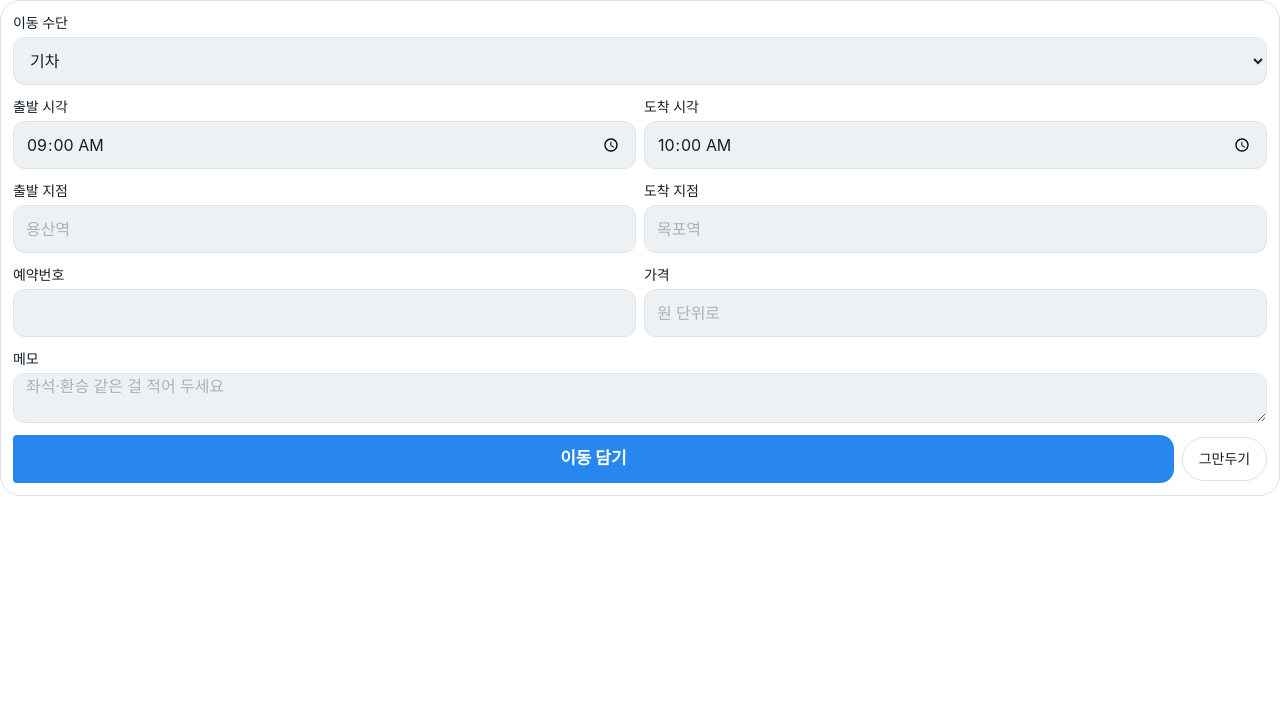
LegForm — 이동 입력 (FR-008) › 가격은 숫자 키패드로 받고 천 단위 콤마로 보여 준다 (SPEC §UI 규칙)
Type "59800" into the field labelled "가격" at x=956, y=313, box [644,289,1267,337]
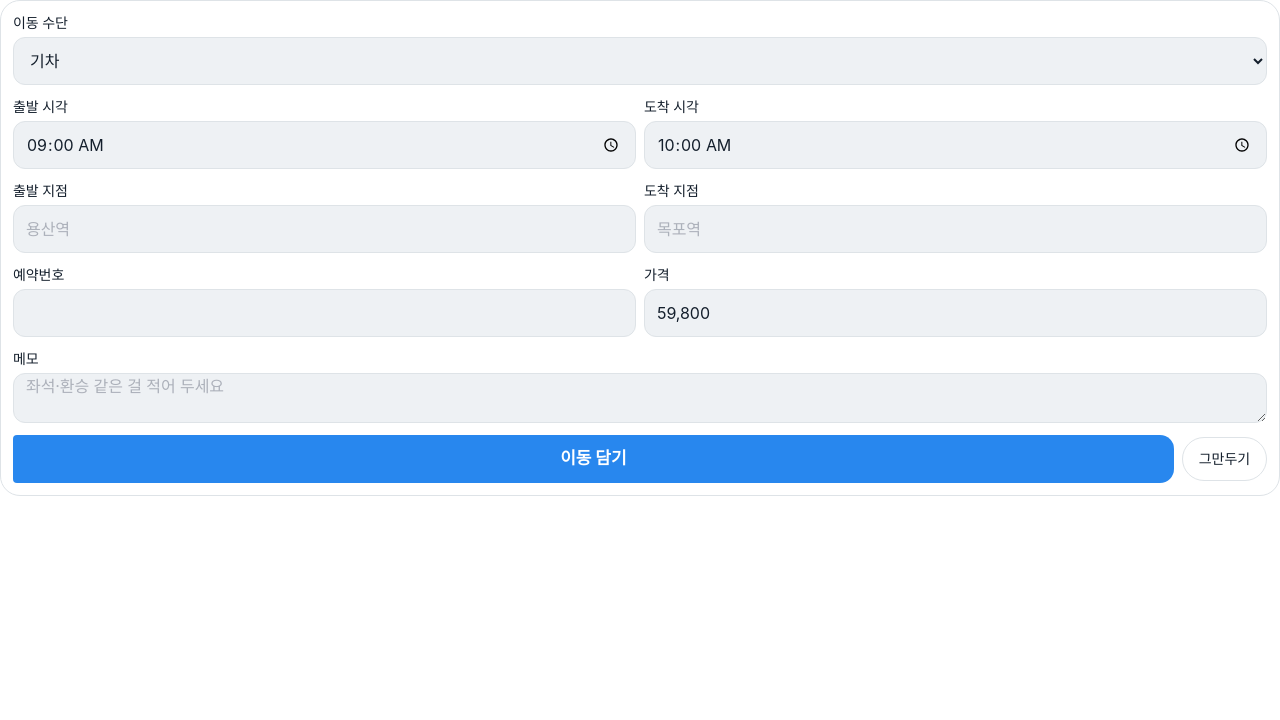
Result: the field labelled "가격" holds "59,800" at [644,289,1267,337]
